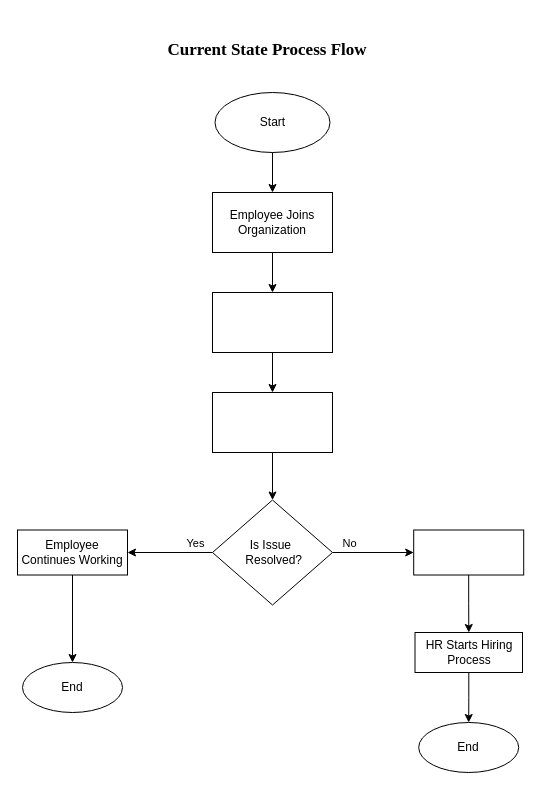
Image size: 542x790. Some labels were removed from this diagram. Each missing label, with the centre of its shape:
"Employee Experiences Issues" goes at point 272,422.
"Employee Resigns" goes at point 468,552.
"Performs Job Responsibilities" goes at point 272,322.
